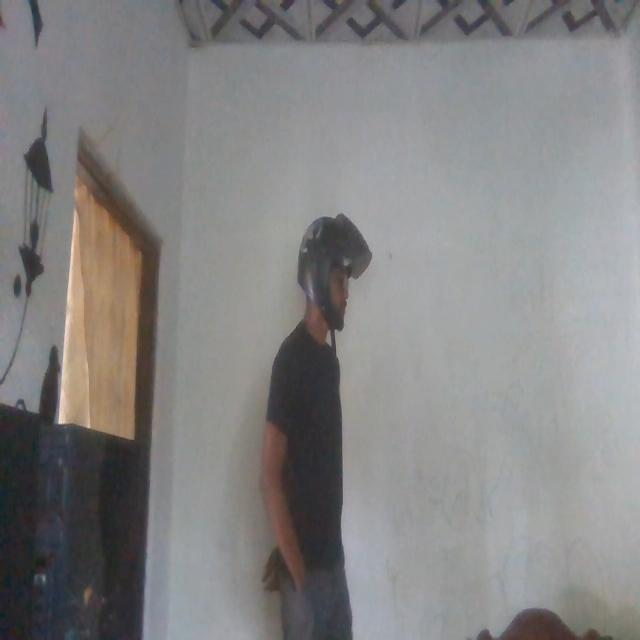Person: (255, 207, 365, 640), (290, 204, 368, 350)
